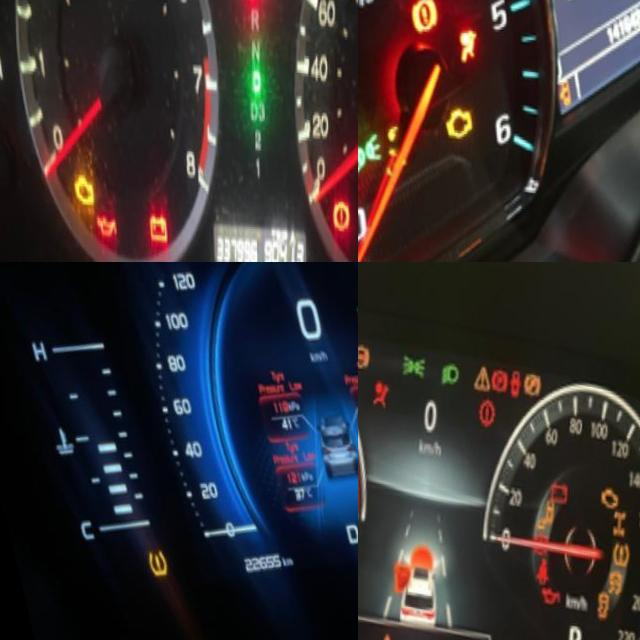Central Warning lamp: (471, 355, 493, 389)
Doors: (506, 357, 524, 391)
Low beam: (436, 349, 461, 384)
